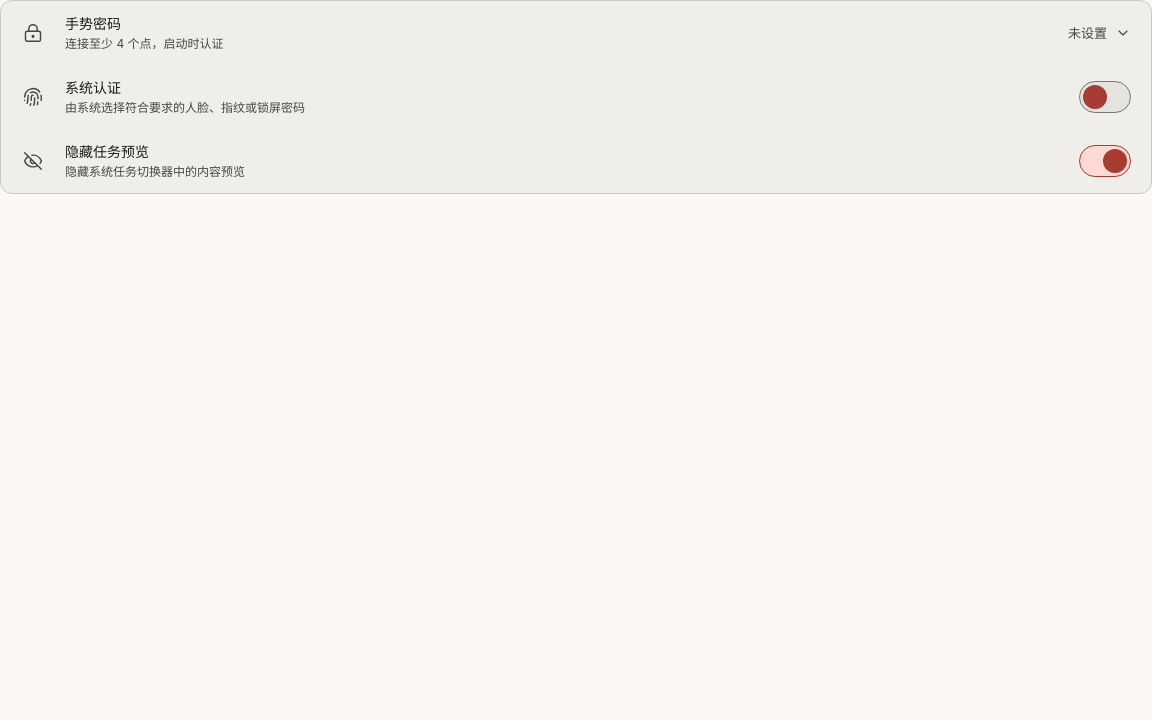
Test case: allows system authentication without an app password and exposes system-only unlock
This screenshot has width=1152, height=720.
Click the switch named "系统认证": (1105,97) [1079, 81, 1131, 113]
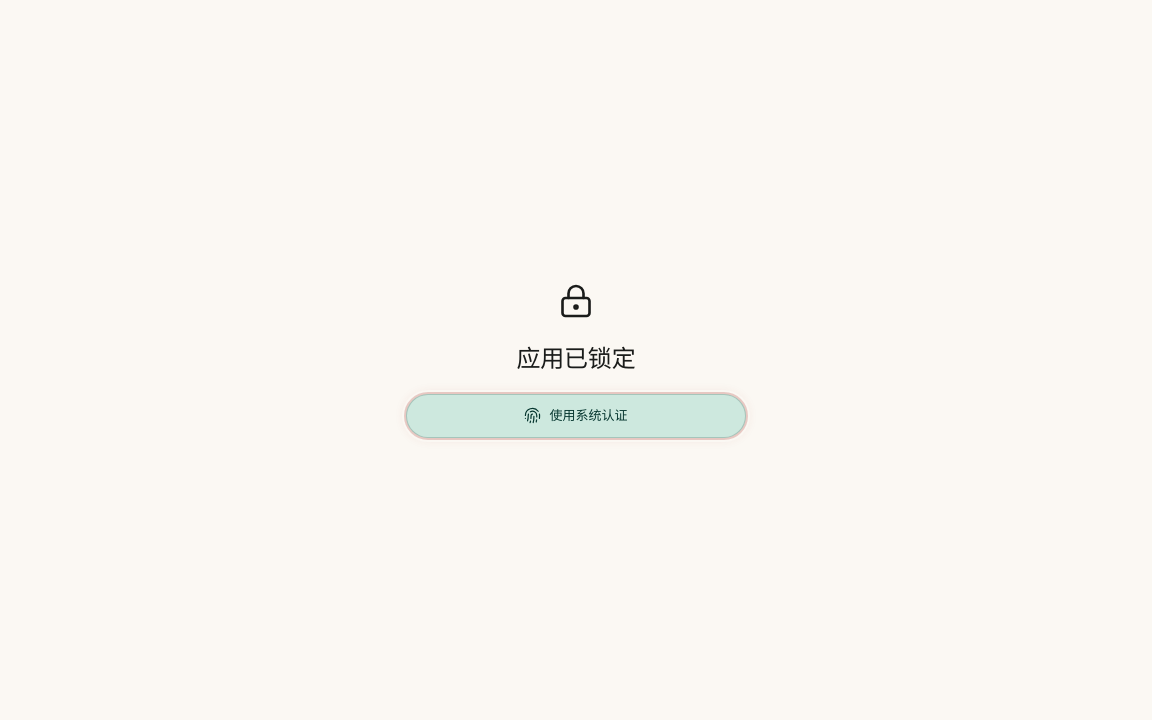
Expected: the button "使用系统认证" is shown, [406, 394, 746, 438]
Expected: the button labelled "密码" is gone
